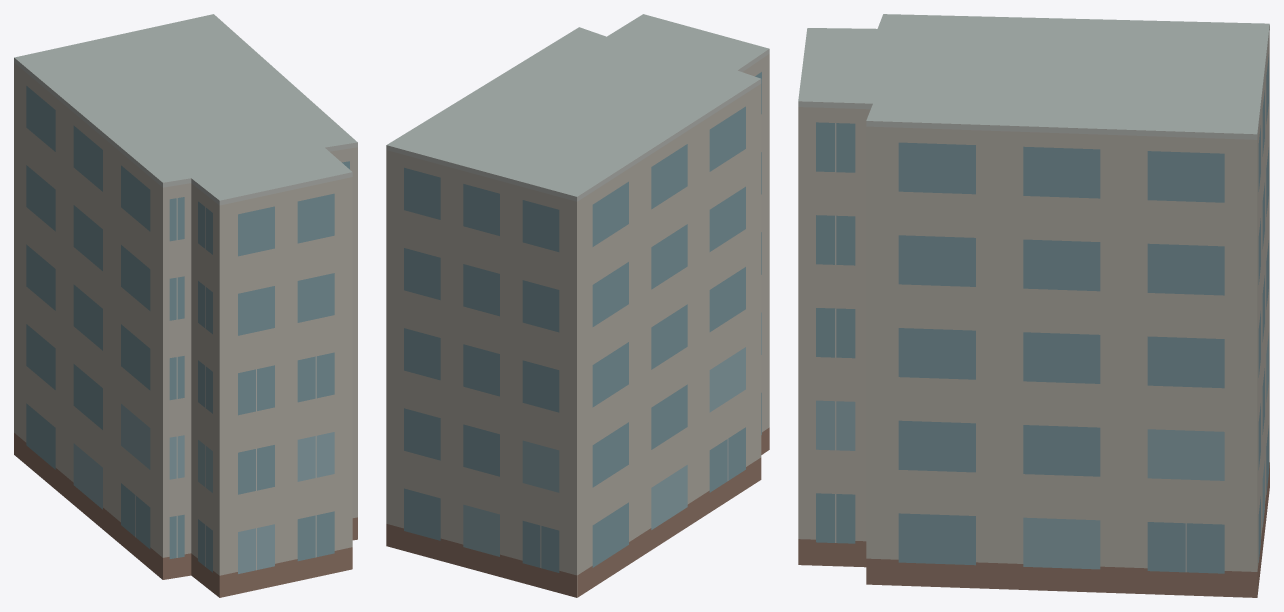
Rendered from survey-upis-32497919.glb.
3 views of the same model, side by side, from view 1: azimuth 30°, elevation 25°; view 2: azimuth 150°, elevation 25°; view 3: azimuth 270°, elevation 25° (orthographic). The views are drawn at different scales.
Visible parts, largest first — view 1: survey-upis-32497919.tmp; view 2: survey-upis-32497919.tmp; view 3: survey-upis-32497919.tmp.
Boxes of the visible parts, box(x1,y1,x2,y2) form: survey-upis-32497919.tmp: box(14, 14, 357, 597); survey-upis-32497919.tmp: box(386, 14, 769, 597); survey-upis-32497919.tmp: box(798, 14, 1269, 597).
Size of the model in its own units: 11.11 by 19.96 by 18.41.
